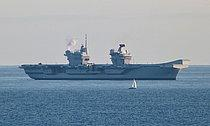MIL_Ship: (17, 33, 191, 82)
